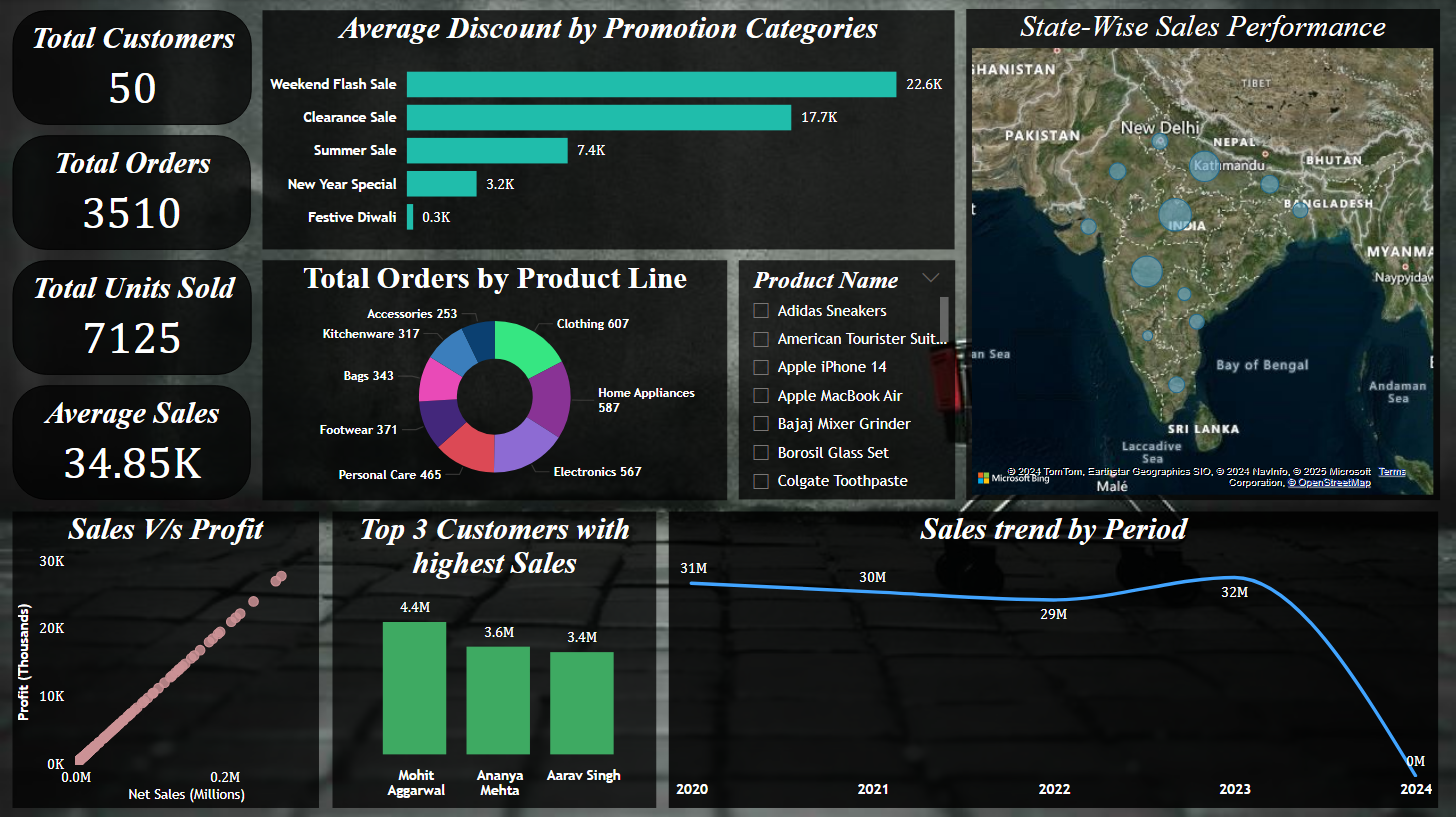

Layout of this report page (visuals, bound fields, positions):
{"tool":"powerbi","page":{"name":"Overview","canvas":[1280,720],"ordinal":1},"visuals":[{"type":"card","title":"Total Customers","fields":{"Values":["Dim Customers.Customer ID"]},"box":[10.9,9.7,210.6,100.5],"z":0},{"type":"card","title":"Total Orders","fields":{"Values":["Fact Table.CustomerID"]},"box":[10.9,119.8,209.4,100.5],"z":1000},{"type":"card","title":"Total Units Sold","fields":{"Values":["Fact Table.Units Sold"]},"box":[10.9,230,210.6,100.5],"z":2000},{"type":"card","title":"Average Sales","fields":{"Values":["Fact Table.Net Sales"]},"box":[10.9,340.1,209.4,100.5],"z":3000},{"type":"scatterChart","title":"Sales V/s Profit","fields":{"X":["Fact Table.Net Sales"],"Y":["Fact Table.Profit"]},"box":[11.4,450.4,269.4,260.8],"z":4000},{"type":"lineChart","title":"Sales trend by Period","fields":{"Y":["Fact Table.Net Sales"],"Category":["Fact Table.Date (dd/mm/yyyy).Variation.Date Hierarchy.Year","Fact Table.Date (dd/mm/yyyy).Variation.Date Hierarchy.Quarter","Fact Table.Date (dd/mm/yyyy).Variation.Date Hierarchy.Month","Fact Table.Date (dd/mm/yyyy).Variation.Date Hierarchy.Day"]},"box":[588.7,450.4,677.1,260.8],"z":5000},{"type":"clusteredBarChart","title":"Average Discount by Promotion Categories","fields":{"Category":["Dim Promotion.Promotion Name"],"Y":["Fact Table.Discount Value"]},"box":[231.2,9.7,608.9,210.6],"z":6000},{"type":"donutChart","title":"Total Orders by Product Line","fields":{"Category":["Dim Product.Product Line"],"Y":["Fact Table.Order ID"]},"box":[230.9,229.5,409.1,211],"z":7000},{"type":"slicer","fields":{"Values":["Dim Product.Product Name"]},"box":[650,230,190,210.6],"z":8000},{"type":"map","title":"State-Wise Sales Performance","fields":{"Size":["Fact Table.Net Sales"],"Category":["Dim Customers.State"]},"box":[849.8,8.5,416.4,432.1],"z":9000},{"type":"columnChart","title":"Top 3 Customers with highest Sales","fields":{"Category":["Dim Customers.Customer Name"],"Y":["Fact Table.Net Sales"]},"box":[292.2,450.4,285.1,260.8],"z":10000}]}

Visuals, with their boxes in screenshot pixels (x1, y1, x2, y2), scaled from the page's 1280x720 canvas onto the 1456x817 screenshot:
"Total Customers" card: 12/11/252/125
"Total Orders" card: 12/136/251/250
"Total Units Sold" card: 12/261/252/375
"Average Sales" card: 12/386/251/500
"Sales V/s Profit" scatterChart: 13/511/319/807
"Sales trend by Period" lineChart: 670/511/1440/807
"Average Discount by Promotion Categories" clusteredBarChart: 263/11/956/250
"Total Orders by Product Line" donutChart: 263/260/728/500
slicer - Dim Product.Product Name: 739/261/956/500
"State-Wise Sales Performance" map: 967/10/1440/500
"Top 3 Customers with highest Sales" columnChart: 332/511/657/807
